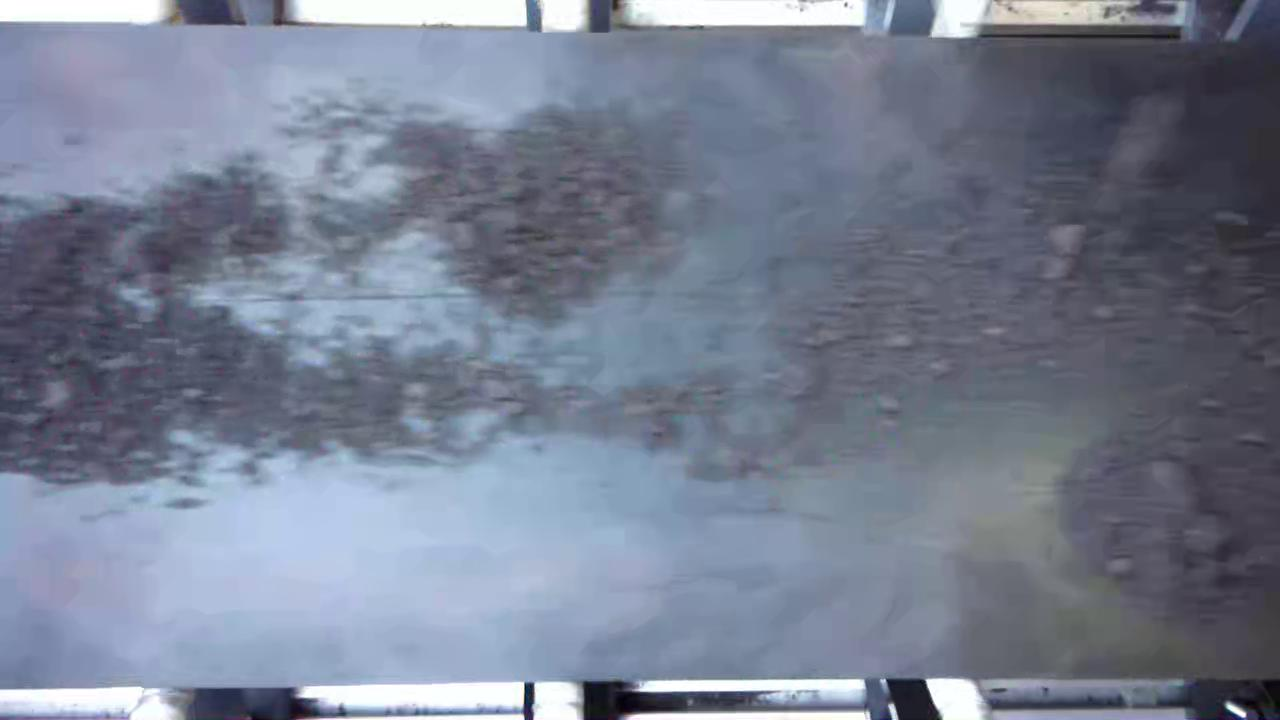conveyor: (1, 36, 1280, 672)
